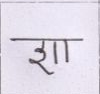aa_matra: (65, 41, 68, 62)
